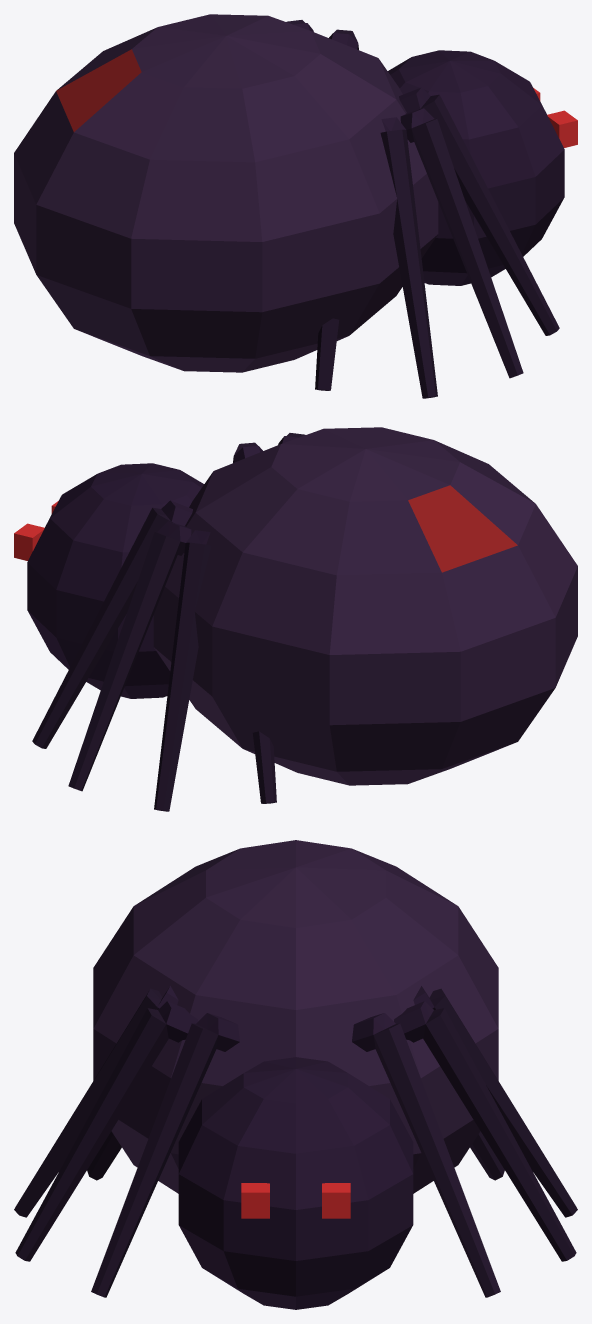
The model's file is m_spider.glb.
3 views of the same model, one above another, from view 1: azimuth 30°, elevation 25°; view 2: azimuth 150°, elevation 25°; view 3: azimuth 270°, elevation 25° (orthographic). The views are drawn at different scales.
Visible parts, largest first — view 1: m_spider; view 2: m_spider; view 3: m_spider.
Part boxes in pixels (left/top/right/bottom): m_spider: left=14, top=14, right=577, bottom=398; m_spider: left=14, top=427, right=577, bottom=811; m_spider: left=14, top=840, right=577, bottom=1309.
Size of the model in its own units: 1.11 by 0.646 by 0.9813.
